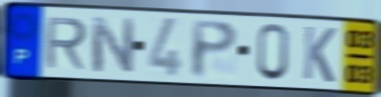0: (256, 22, 291, 83)
4: (146, 15, 186, 81)
K: (301, 23, 339, 85)
N: (89, 14, 136, 76)
P: (189, 19, 240, 81)
R: (42, 16, 89, 71)
